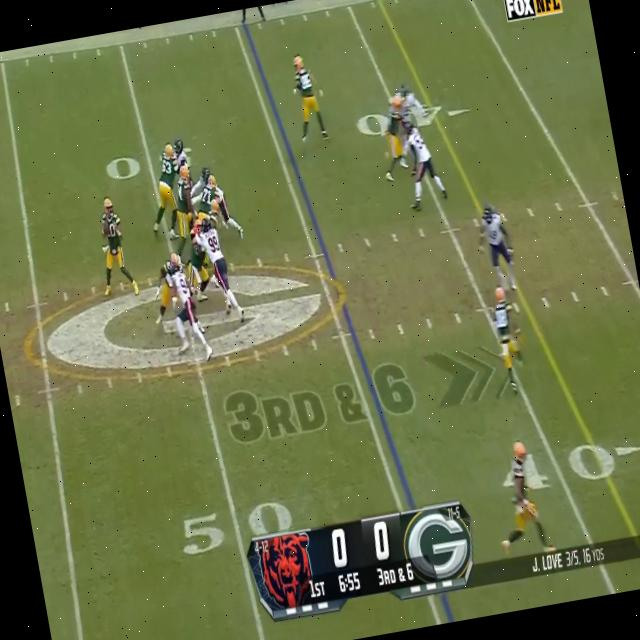Player: (492, 438, 544, 548), (486, 284, 528, 396), (198, 218, 240, 326), (167, 260, 209, 362), (92, 196, 134, 296), (146, 143, 189, 239), (400, 114, 442, 208), (375, 92, 415, 180), (289, 52, 325, 144), (166, 168, 203, 257), (477, 200, 515, 283), (192, 174, 222, 216)
